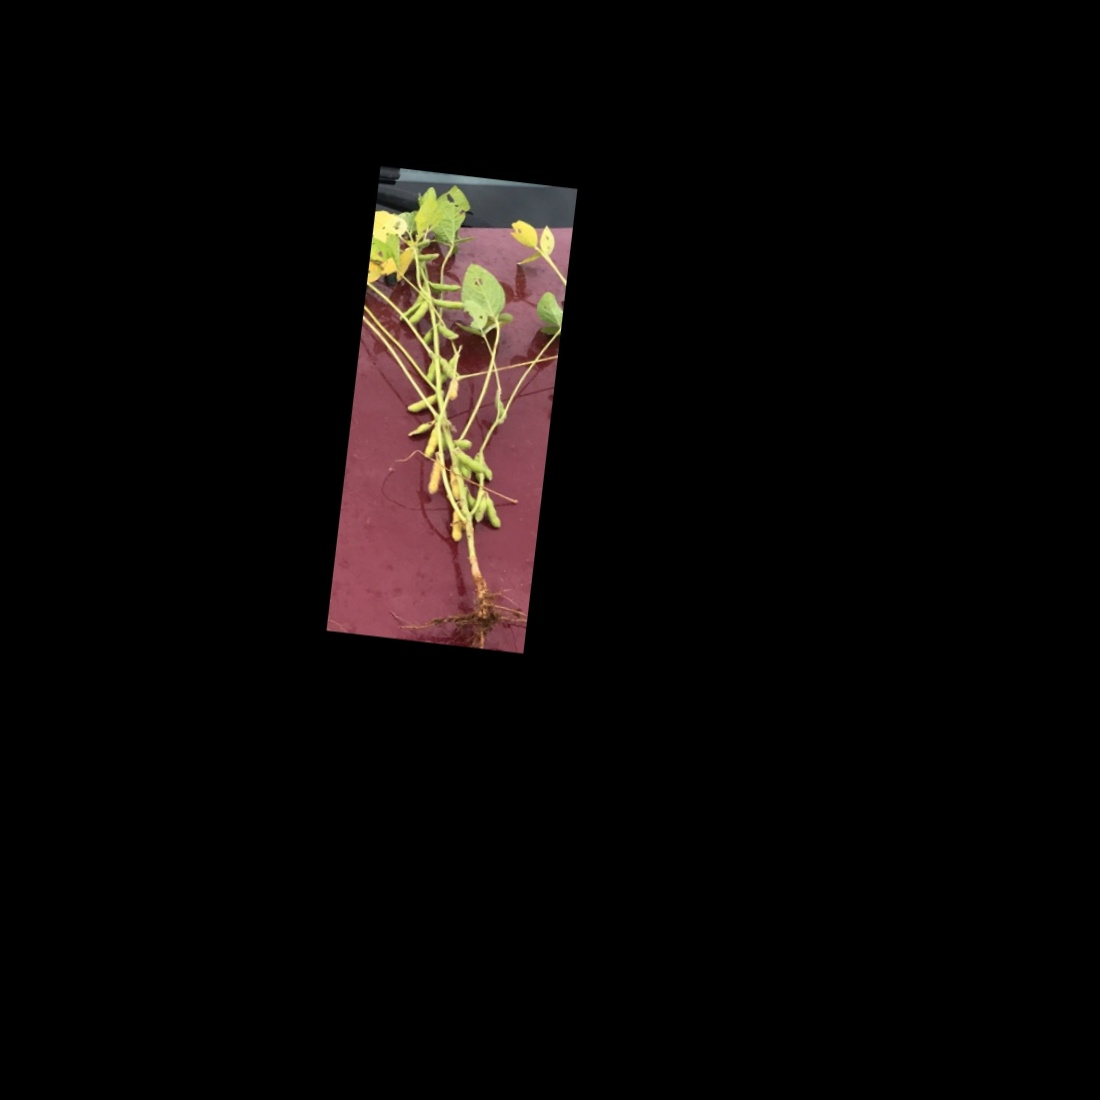pod: (475, 492, 510, 532), (421, 449, 445, 496), (404, 389, 440, 415), (434, 353, 462, 384), (431, 319, 464, 342), (428, 295, 470, 312), (414, 247, 445, 267), (425, 279, 465, 294)
soy: (333, 179, 573, 646)
